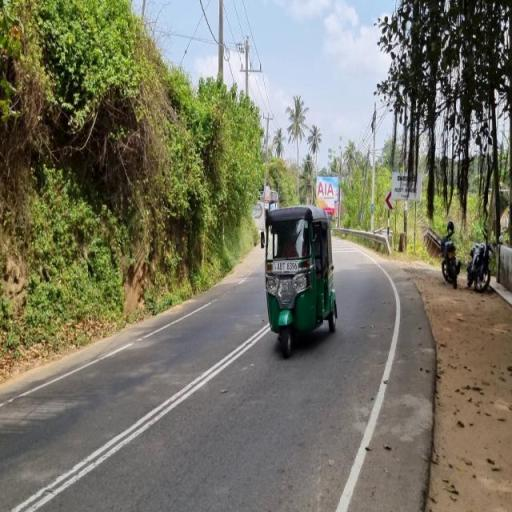double_white_line: (12, 321, 270, 510)
